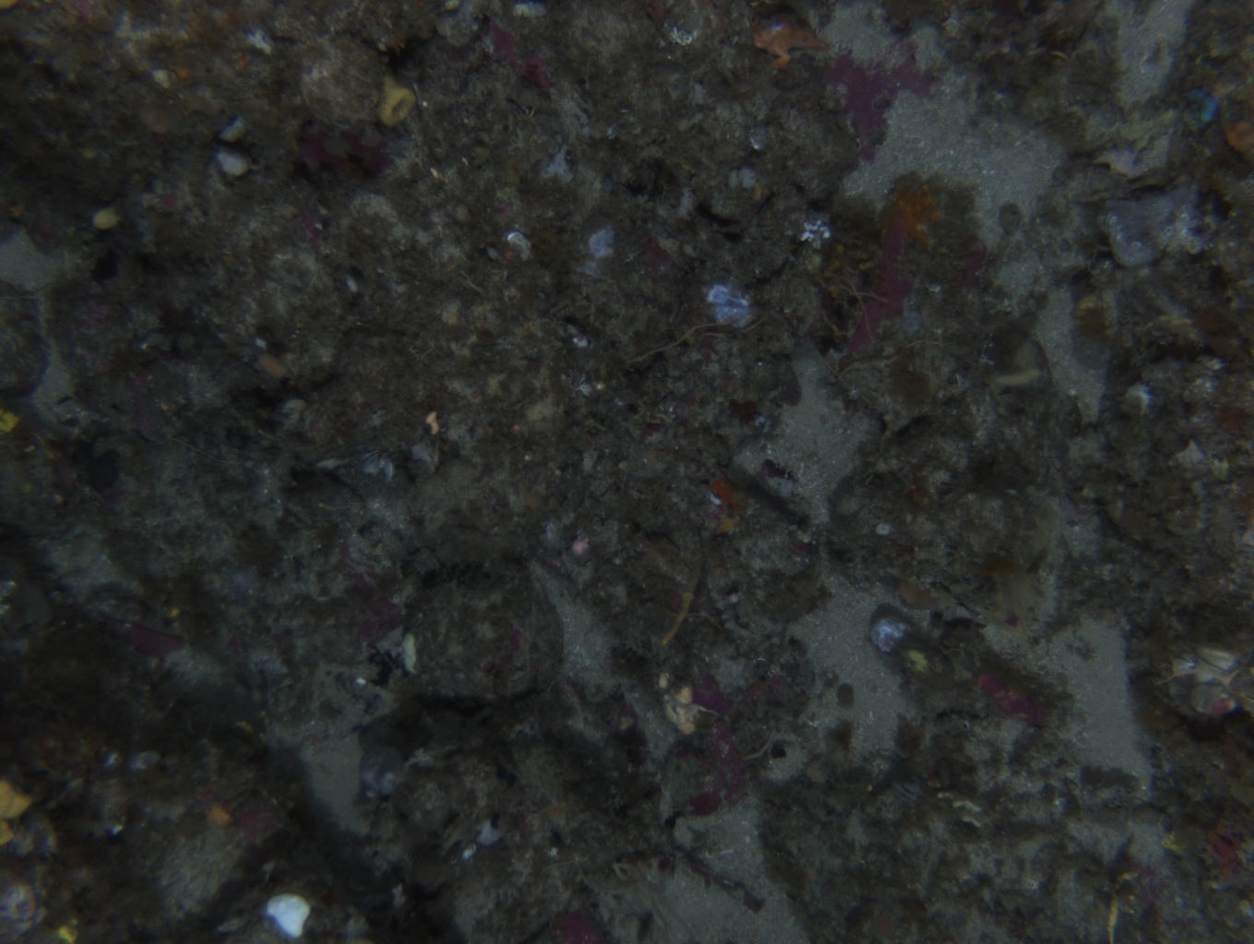Brachionichthyidae: (748, 14, 834, 71)
